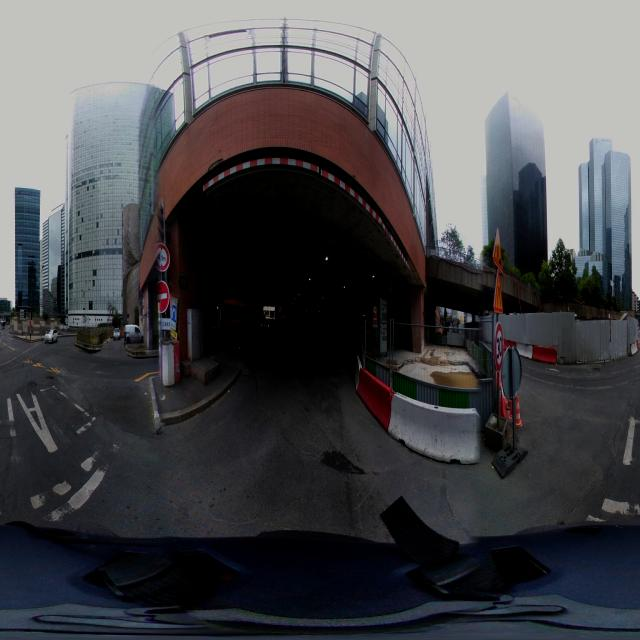car: (124, 322, 143, 343), (44, 326, 58, 344), (114, 326, 122, 341)
